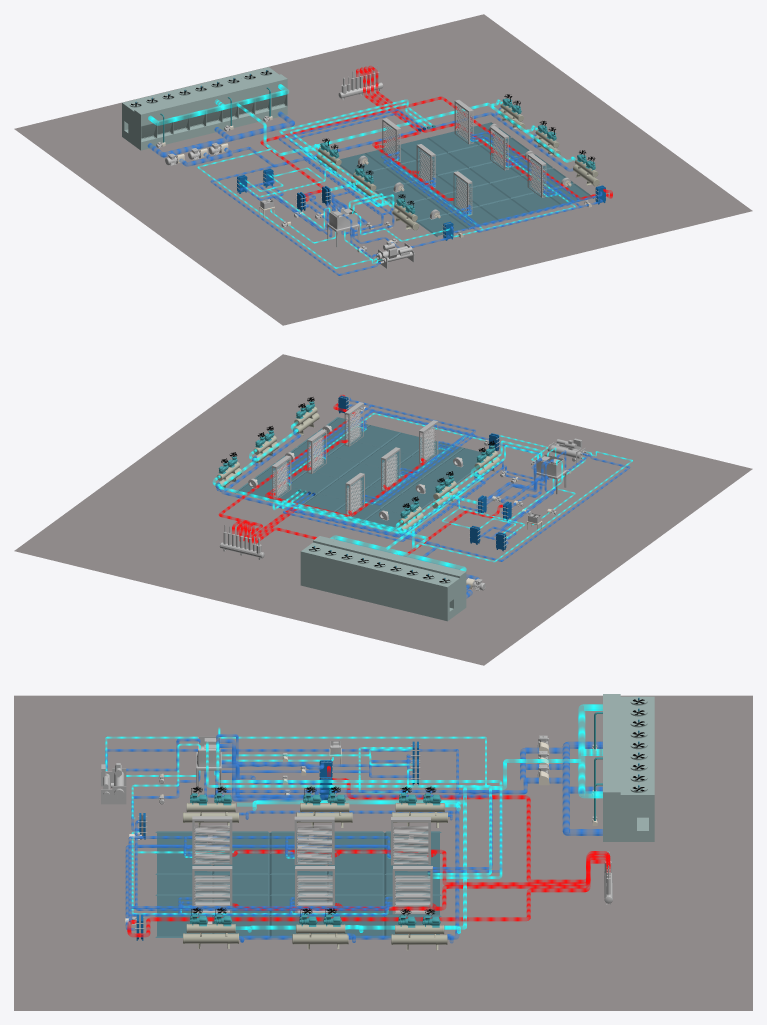
File: accl-250t-1.glb
3 renders of one model, top to bottom at view 1: azimuth 30°, elevation 25°; view 2: azimuth 150°, elevation 25°; view 3: azimuth 270°, elevation 25°, orthographic. The views are drawn at different scales.
Parts seen in each view (by area): view 1: Land_3, FBXASC229FBXASC185FBXASC179FBXASC233FBXASC157FBXASC162FBXAS., cooltwr_fan01_model, 3_GD_Cyan_move.010, 3_GD_Blue_move.005, cooltwr_fan07_model, cooltwr_fan05_model, cooltwr_fan03_model, cooltwr_fan09_model, cooltwr_fan04_model, cooltwr_fan02_model, 3_GD_Red_move (+17 smaller); view 2: Land_3, FBXASC229FBXASC185FBXASC179FBXASC233FBXASC157FBXASC162FBXAS., cooltwr_fan01_model, 3_GD_Cyan_move.010, 3_GD_Blue_move.005, cooltwr_fan04_model, cooltwr_fan06_model, cooltwr_fan07_model, cooltwr_fan09_model, cooltwr_fan02_model, cooltwr_fan03_model, cooltwr_fan05_model (+16 smaller); view 3: Land_3, FBXASC231FBXASC171FBXASC139FBXASC230FBXASC150FBXASC185FBXAS. (×29), FBXASC229FBXASC185FBXASC179FBXASC233FBXASC157FBXASC162FBXAS., FBXASC229FBXASC134FBXASC183FBXASC229FBXASC135FBXASC157FBXAS. (×6), cooltwr_fan09_model, 3_GD_Red_move.007, 3_GD_Cyan_move.010, 3_GD_Cyan_move.016, 3_GD_Red_move.001, 3_GD_Red_move, 3_GD_Cyan_move.006, 3_GD_Red_move.004 (+25 smaller).
Boxes of the visible parts, x1,y1,x2,y2 form: Land_3: (14, 14, 752, 325); FBXASC229FBXASC185FBXASC179FBXASC233FBXASC157FBXASC162FBXAS.: (339, 122, 594, 236); cooltwr_fan01_model: (122, 99, 157, 150); 3_GD_Cyan_move.010: (236, 102, 575, 162); 3_GD_Blue_move.005: (233, 112, 572, 171); cooltwr_fan07_model: (220, 75, 254, 126); cooltwr_fan05_model: (188, 83, 222, 134); cooltwr_fan03_model: (155, 91, 189, 142); cooltwr_fan09_model: (253, 67, 287, 118); cooltwr_fan04_model: (171, 87, 205, 138); cooltwr_fan02_model: (138, 95, 173, 144); 3_GD_Red_move: (260, 69, 385, 201); Land_3: (14, 354, 752, 665); FBXASC229FBXASC185FBXASC179FBXASC233FBXASC157FBXASC162FBXAS.: (234, 417, 481, 531); cooltwr_fan01_model: (431, 567, 466, 621); 3_GD_Cyan_move.010: (218, 421, 428, 549); 3_GD_Blue_move.005: (221, 429, 439, 558); cooltwr_fan04_model: (382, 555, 416, 609); cooltwr_fan06_model: (349, 547, 384, 601); cooltwr_fan07_model: (333, 544, 367, 597); cooltwr_fan09_model: (300, 536, 335, 589); cooltwr_fan02_model: (415, 564, 449, 617); cooltwr_fan03_model: (398, 559, 433, 613); cooltwr_fan05_model: (366, 552, 400, 605); Land_3: (14, 695, 752, 1010); FBXASC231FBXASC171FBXASC139FBXASC230FBXASC150FBXASC185FBXAS. (×29): (192, 736, 432, 914); FBXASC229FBXASC185FBXASC179FBXASC233FBXASC157FBXASC162FBXAS.: (155, 831, 441, 937); FBXASC229FBXASC134FBXASC183FBXASC229FBXASC135FBXASC157FBXAS. (×6): (183, 803, 447, 950); cooltwr_fan09_model: (603, 781, 654, 841); 3_GD_Red_move.007: (127, 859, 610, 937); 3_GD_Cyan_move.010: (236, 759, 580, 932); 3_GD_Cyan_move.016: (216, 742, 502, 878); 3_GD_Red_move.001: (232, 849, 610, 886); 3_GD_Red_move: (327, 765, 610, 883); 3_GD_Cyan_move.006: (206, 742, 491, 875); 3_GD_Red_move.004: (232, 856, 610, 910).
Bounding box in the file's own units: 126 × 9.64 × 125.
45 materials, 3 textured.
